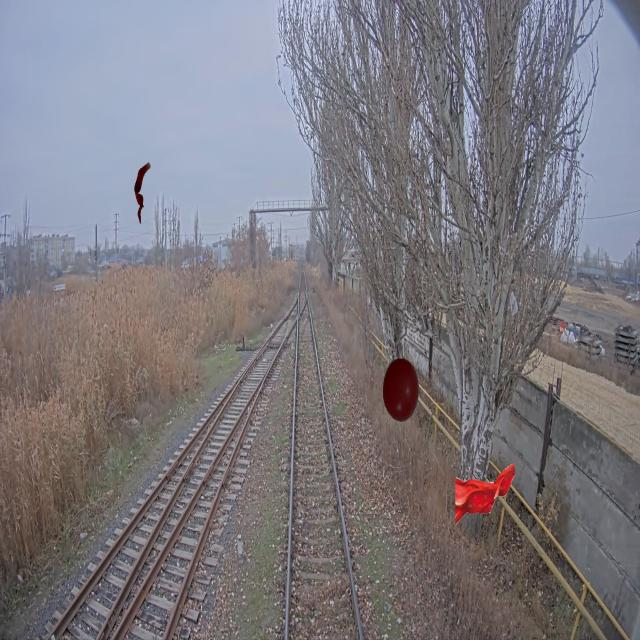balloon: (382, 358, 419, 422)
floating object: (455, 462, 515, 526), (134, 160, 150, 223)
